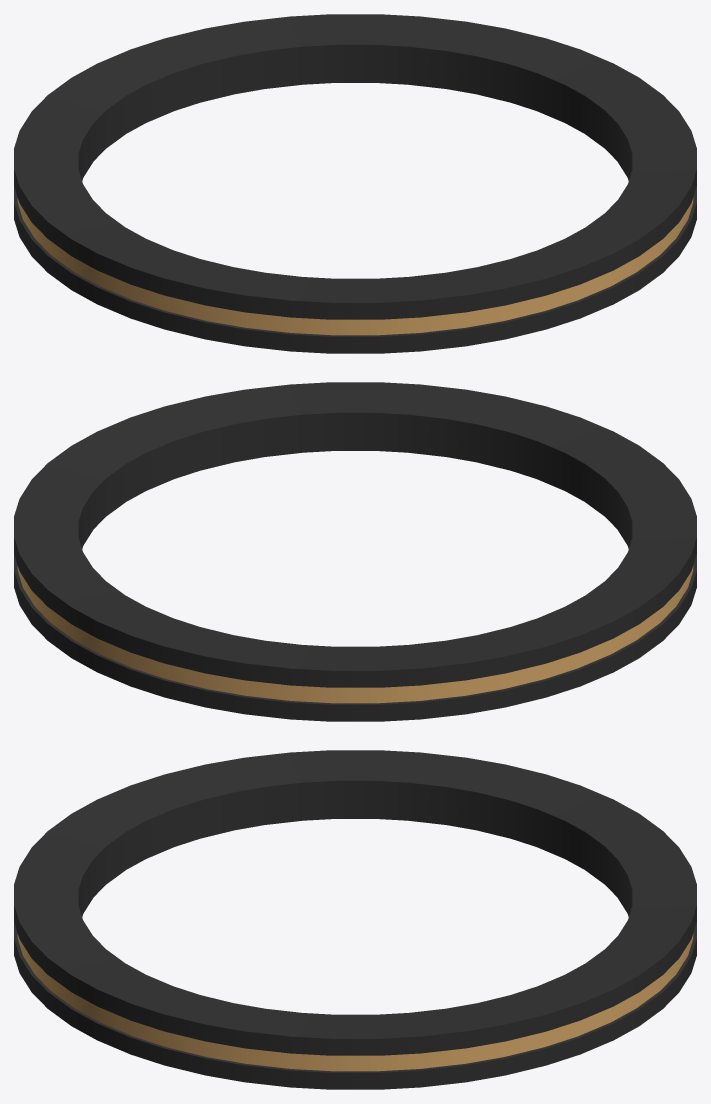
The model's file is LightCeiling5.fbx.
3 renders of one model, top to bottom at view 1: azimuth 30°, elevation 25°; view 2: azimuth 150°, elevation 25°; view 3: azimuth 270°, elevation 25°, orthographic.
Visible parts, largest first — view 1: LightCeiling5; view 2: LightCeiling5; view 3: LightCeiling5.
Part boxes in pixels (<box>): LightCeiling5: <box>14,14,696,353</box>; LightCeiling5: <box>14,382,696,721</box>; LightCeiling5: <box>14,750,696,1089</box>.
Size of the model in its own units: 124 by 10.22 by 124.
